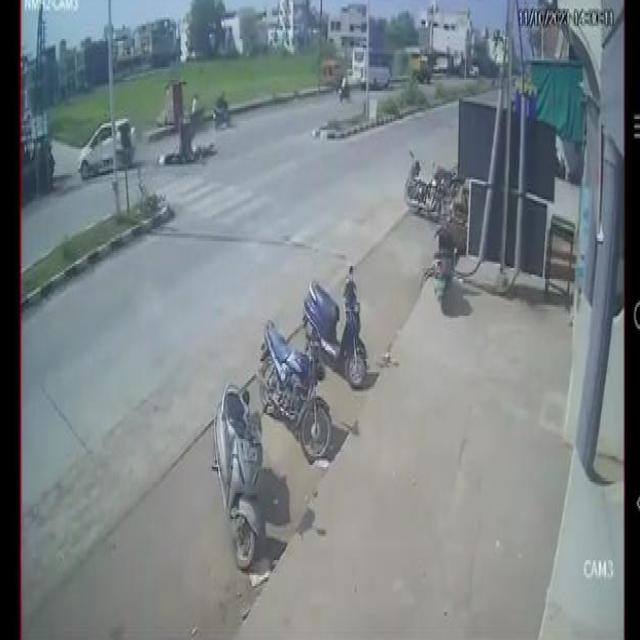accident: (155, 109, 219, 171)
